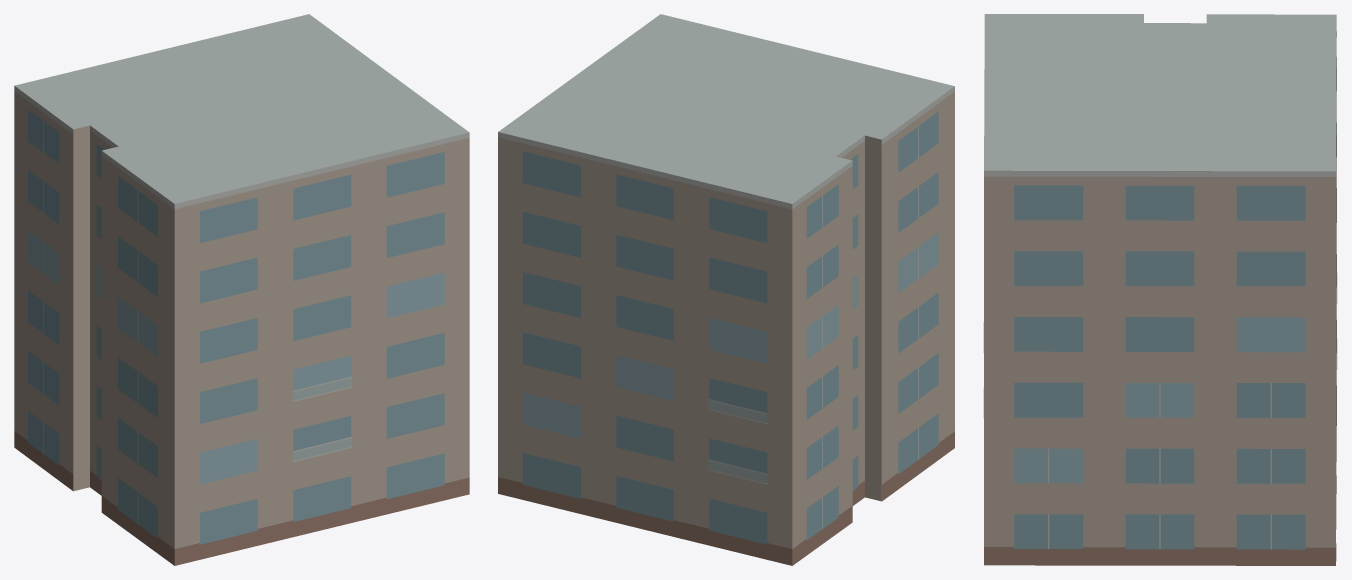
Rendered from survey-upis-32877395.glb.
3 renders of one model, left to right at view 1: azimuth 30°, elevation 25°; view 2: azimuth 150°, elevation 25°; view 3: azimuth 270°, elevation 25°, orthographic. The views are drawn at different scales.
Parts seen in each view (by area): view 1: survey-upis-32877395.tmp; view 2: survey-upis-32877395.tmp; view 3: survey-upis-32877395.tmp.
Boxes of the visible parts, box(x1,y1,x2,y2) form: survey-upis-32877395.tmp: box(14, 14, 469, 565); survey-upis-32877395.tmp: box(498, 14, 954, 565); survey-upis-32877395.tmp: box(983, 14, 1337, 565).
Bounding box in the file's own units: 14.21 × 16.6 × 13.52.
